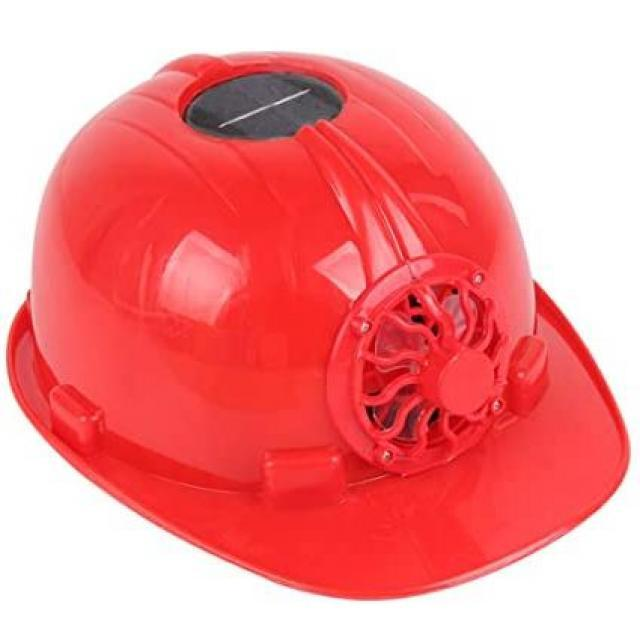helmet: (5, 56, 630, 604)
